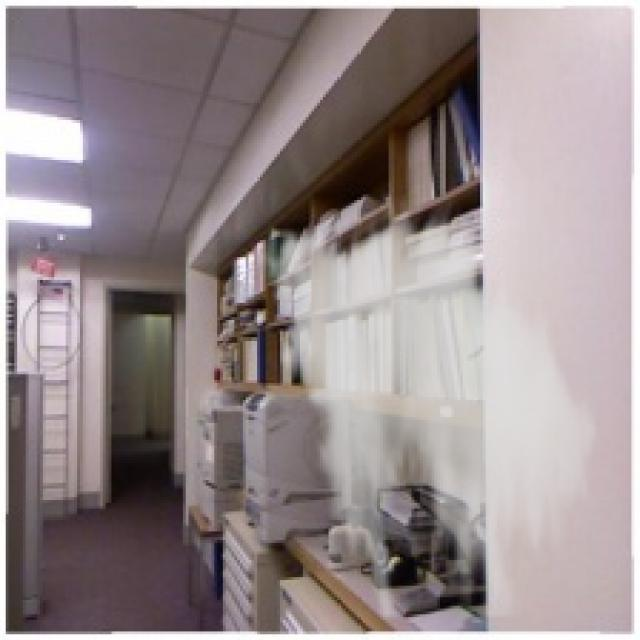smoke: (254, 194, 609, 620)
